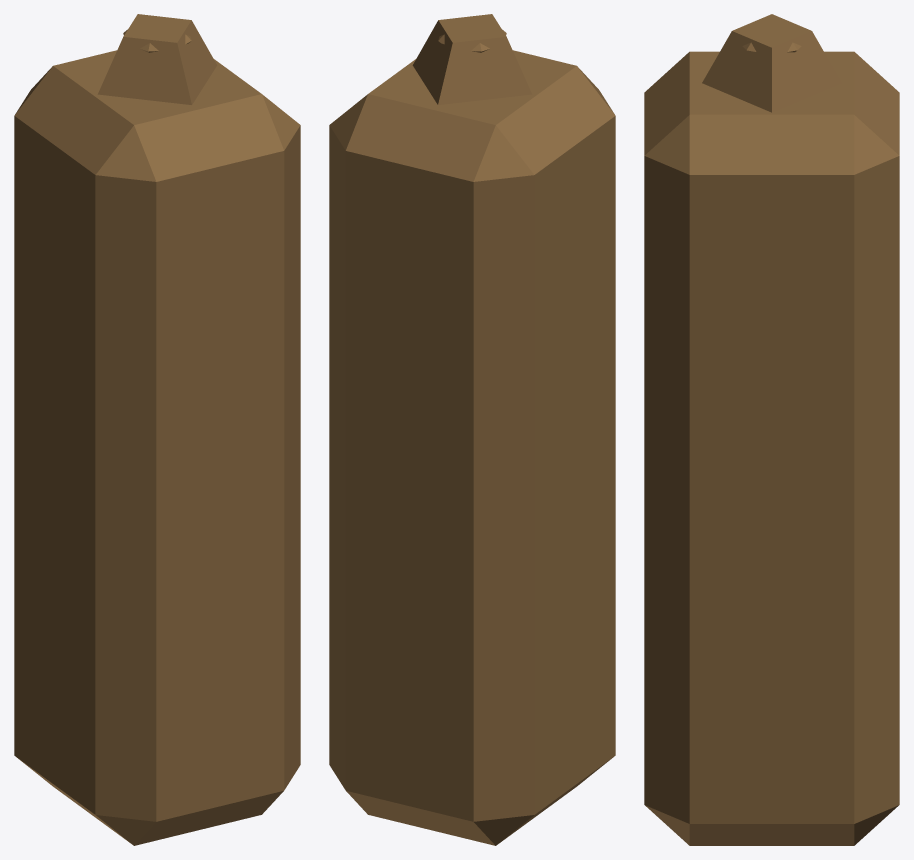
File: wooden_lantern_01.gltf
3 views of the same model, side by side, from view 1: azimuth 30°, elevation 25°; view 2: azimuth 150°, elevation 25°; view 3: azimuth 270°, elevation 25° (orthographic).
Parts seen in each view (by area): view 1: frame, cap; view 2: frame, cap; view 3: frame, cap.
Boxes of the visible parts, x1,y1,x2,y2 form: frame: (14,50,300,845); cap: (97,14,217,104); frame: (329,50,615,845); cap: (412,14,532,104); frame: (644,51,899,845); cap: (702,14,841,112).
Bounding box in the file's own units: 0.1326 × 0.4771 × 0.1408.
